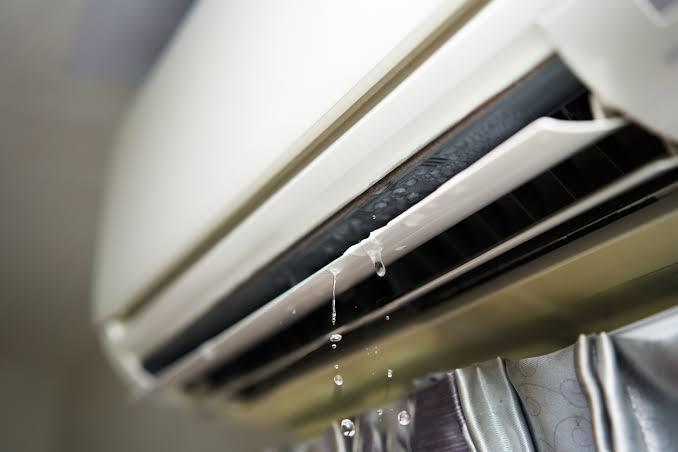water drop: (364, 240, 389, 280), (326, 268, 340, 324), (340, 416, 354, 436), (395, 410, 412, 424), (332, 374, 346, 385)
